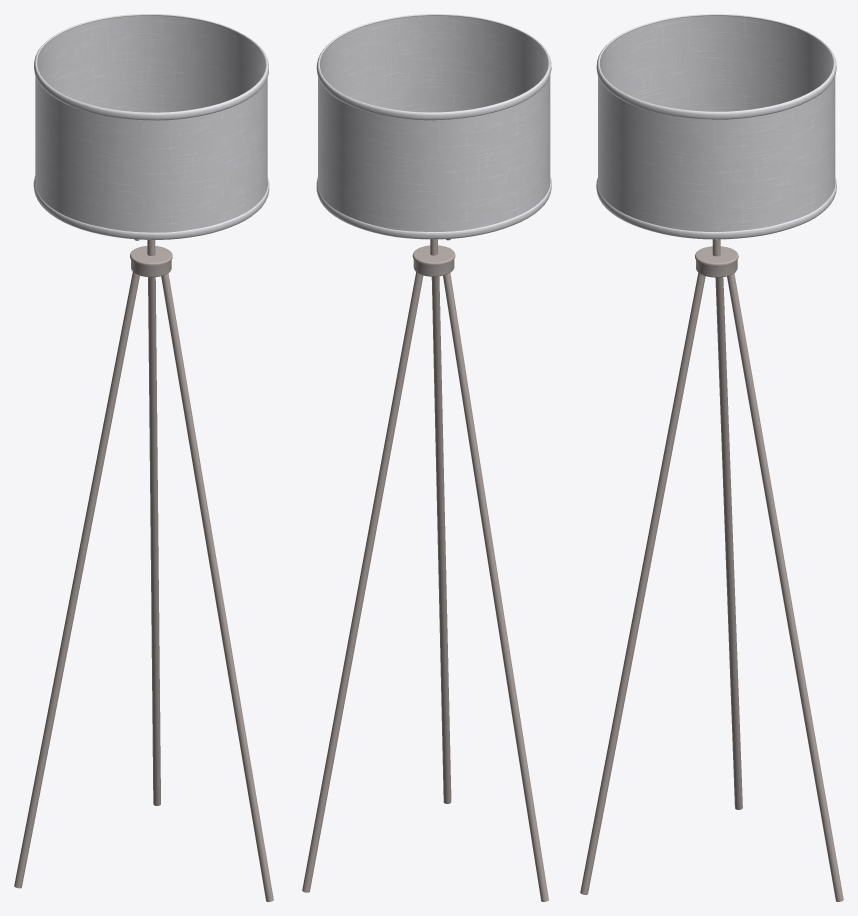
File: abo-B0742DJS8J.glb
3 views of the same model, side by side, from view 1: azimuth 30°, elevation 25°; view 2: azimuth 150°, elevation 25°; view 3: azimuth 270°, elevation 25° (orthographic).
Bounding box in the file's own units: 0.458 × 1.55 × 0.458.
Materials: 1 (1 with a texture image).
